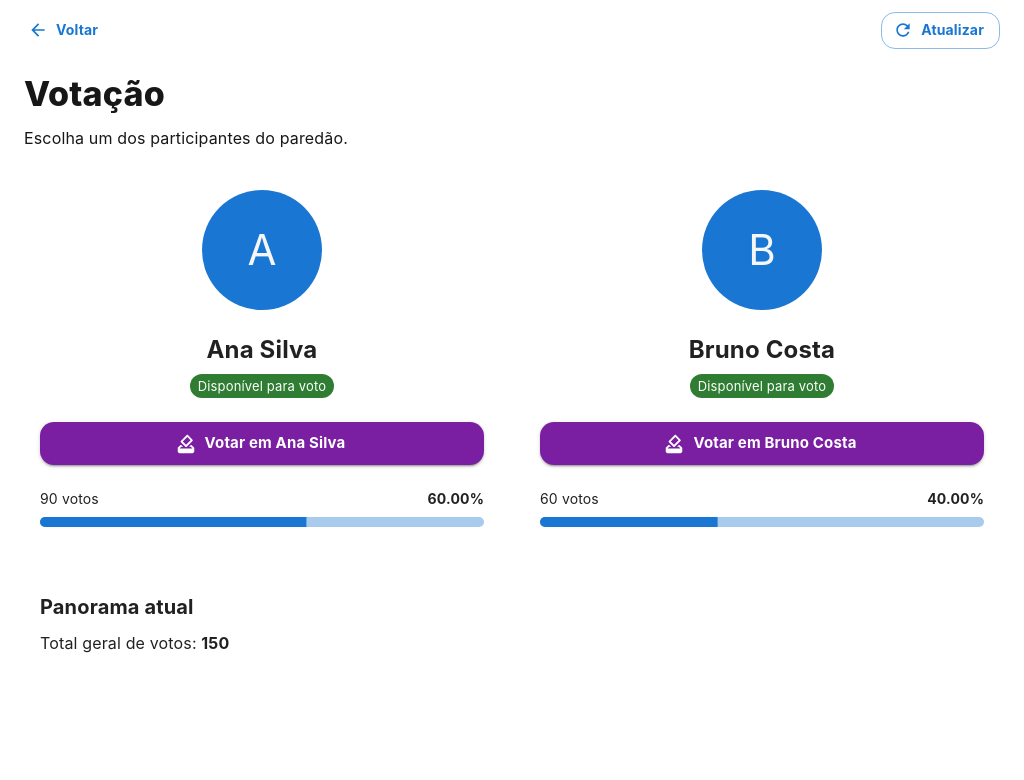
Test: VotingPage › registra voto com sucesso e atualiza resultados na tela
Click the button "Votar em Ana Silva" at [262, 444], box [40,422,484,465]
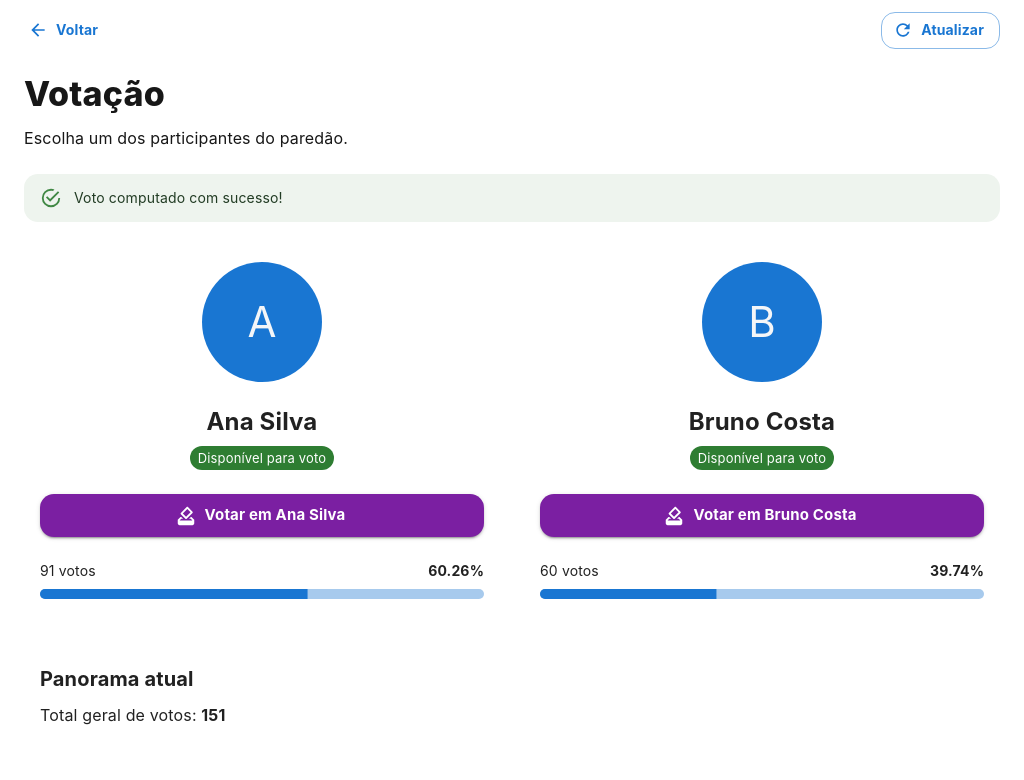
Now the text "Voto computado com sucesso!" is shown, box [74,189,283,206]
Now the text "151" is shown, box [201,705,226,725]
Now the text "91 votos" is shown, box [40,561,96,581]
